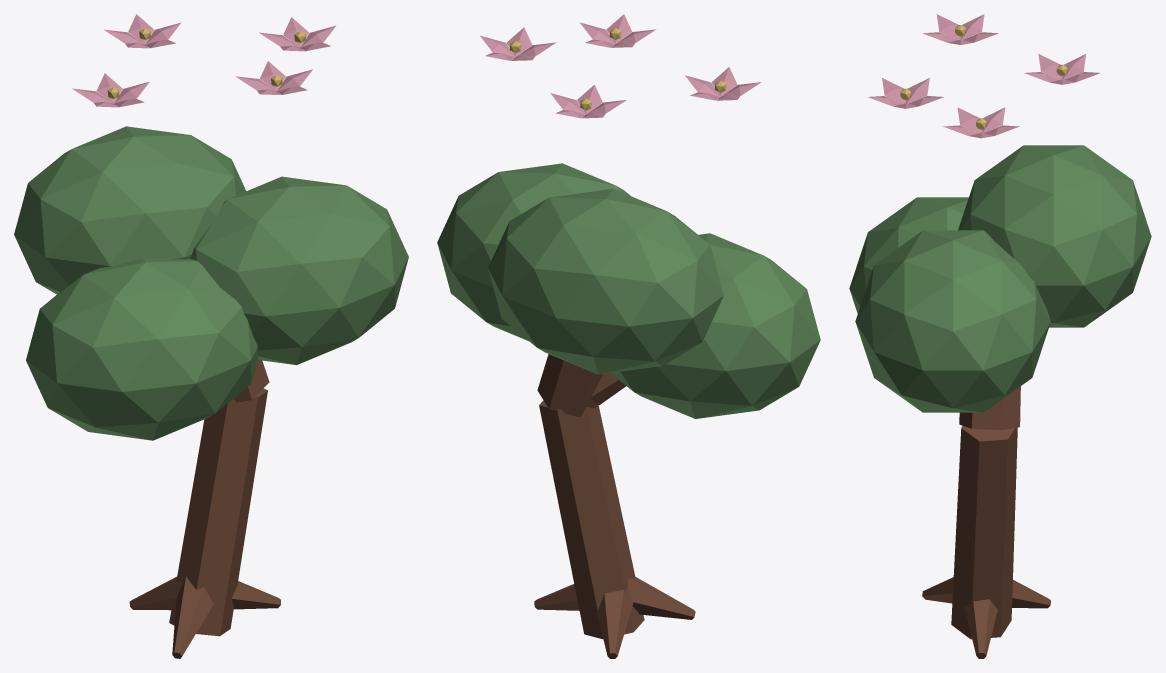
The model's file is map-boundaries-v5__village_10.glb.
The picture shows the model from 3 angles, left to right: view 1: azimuth 30°, elevation 25°; view 2: azimuth 150°, elevation 25°; view 3: azimuth 270°, elevation 25°; orthographic projection. The views are drawn at different scales.
Parts seen in each view (by area): view 1: village_10; view 2: village_10; view 3: village_10.
Boxes of the visible parts, box(x1,y1,x2,y2) form: village_10: box(14, 14, 408, 658); village_10: box(437, 14, 820, 658); village_10: box(849, 14, 1151, 658).
Size of the model in its own units: 1.95 by 3.01 by 1.48.
